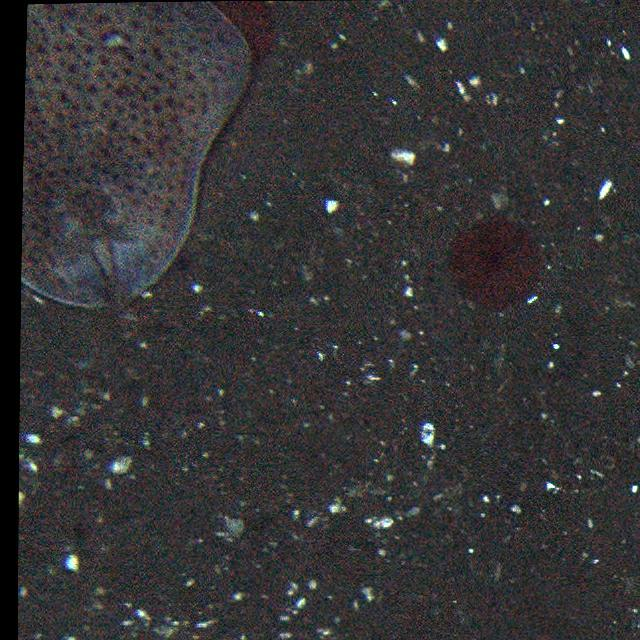skate: (28, 0, 255, 315)
